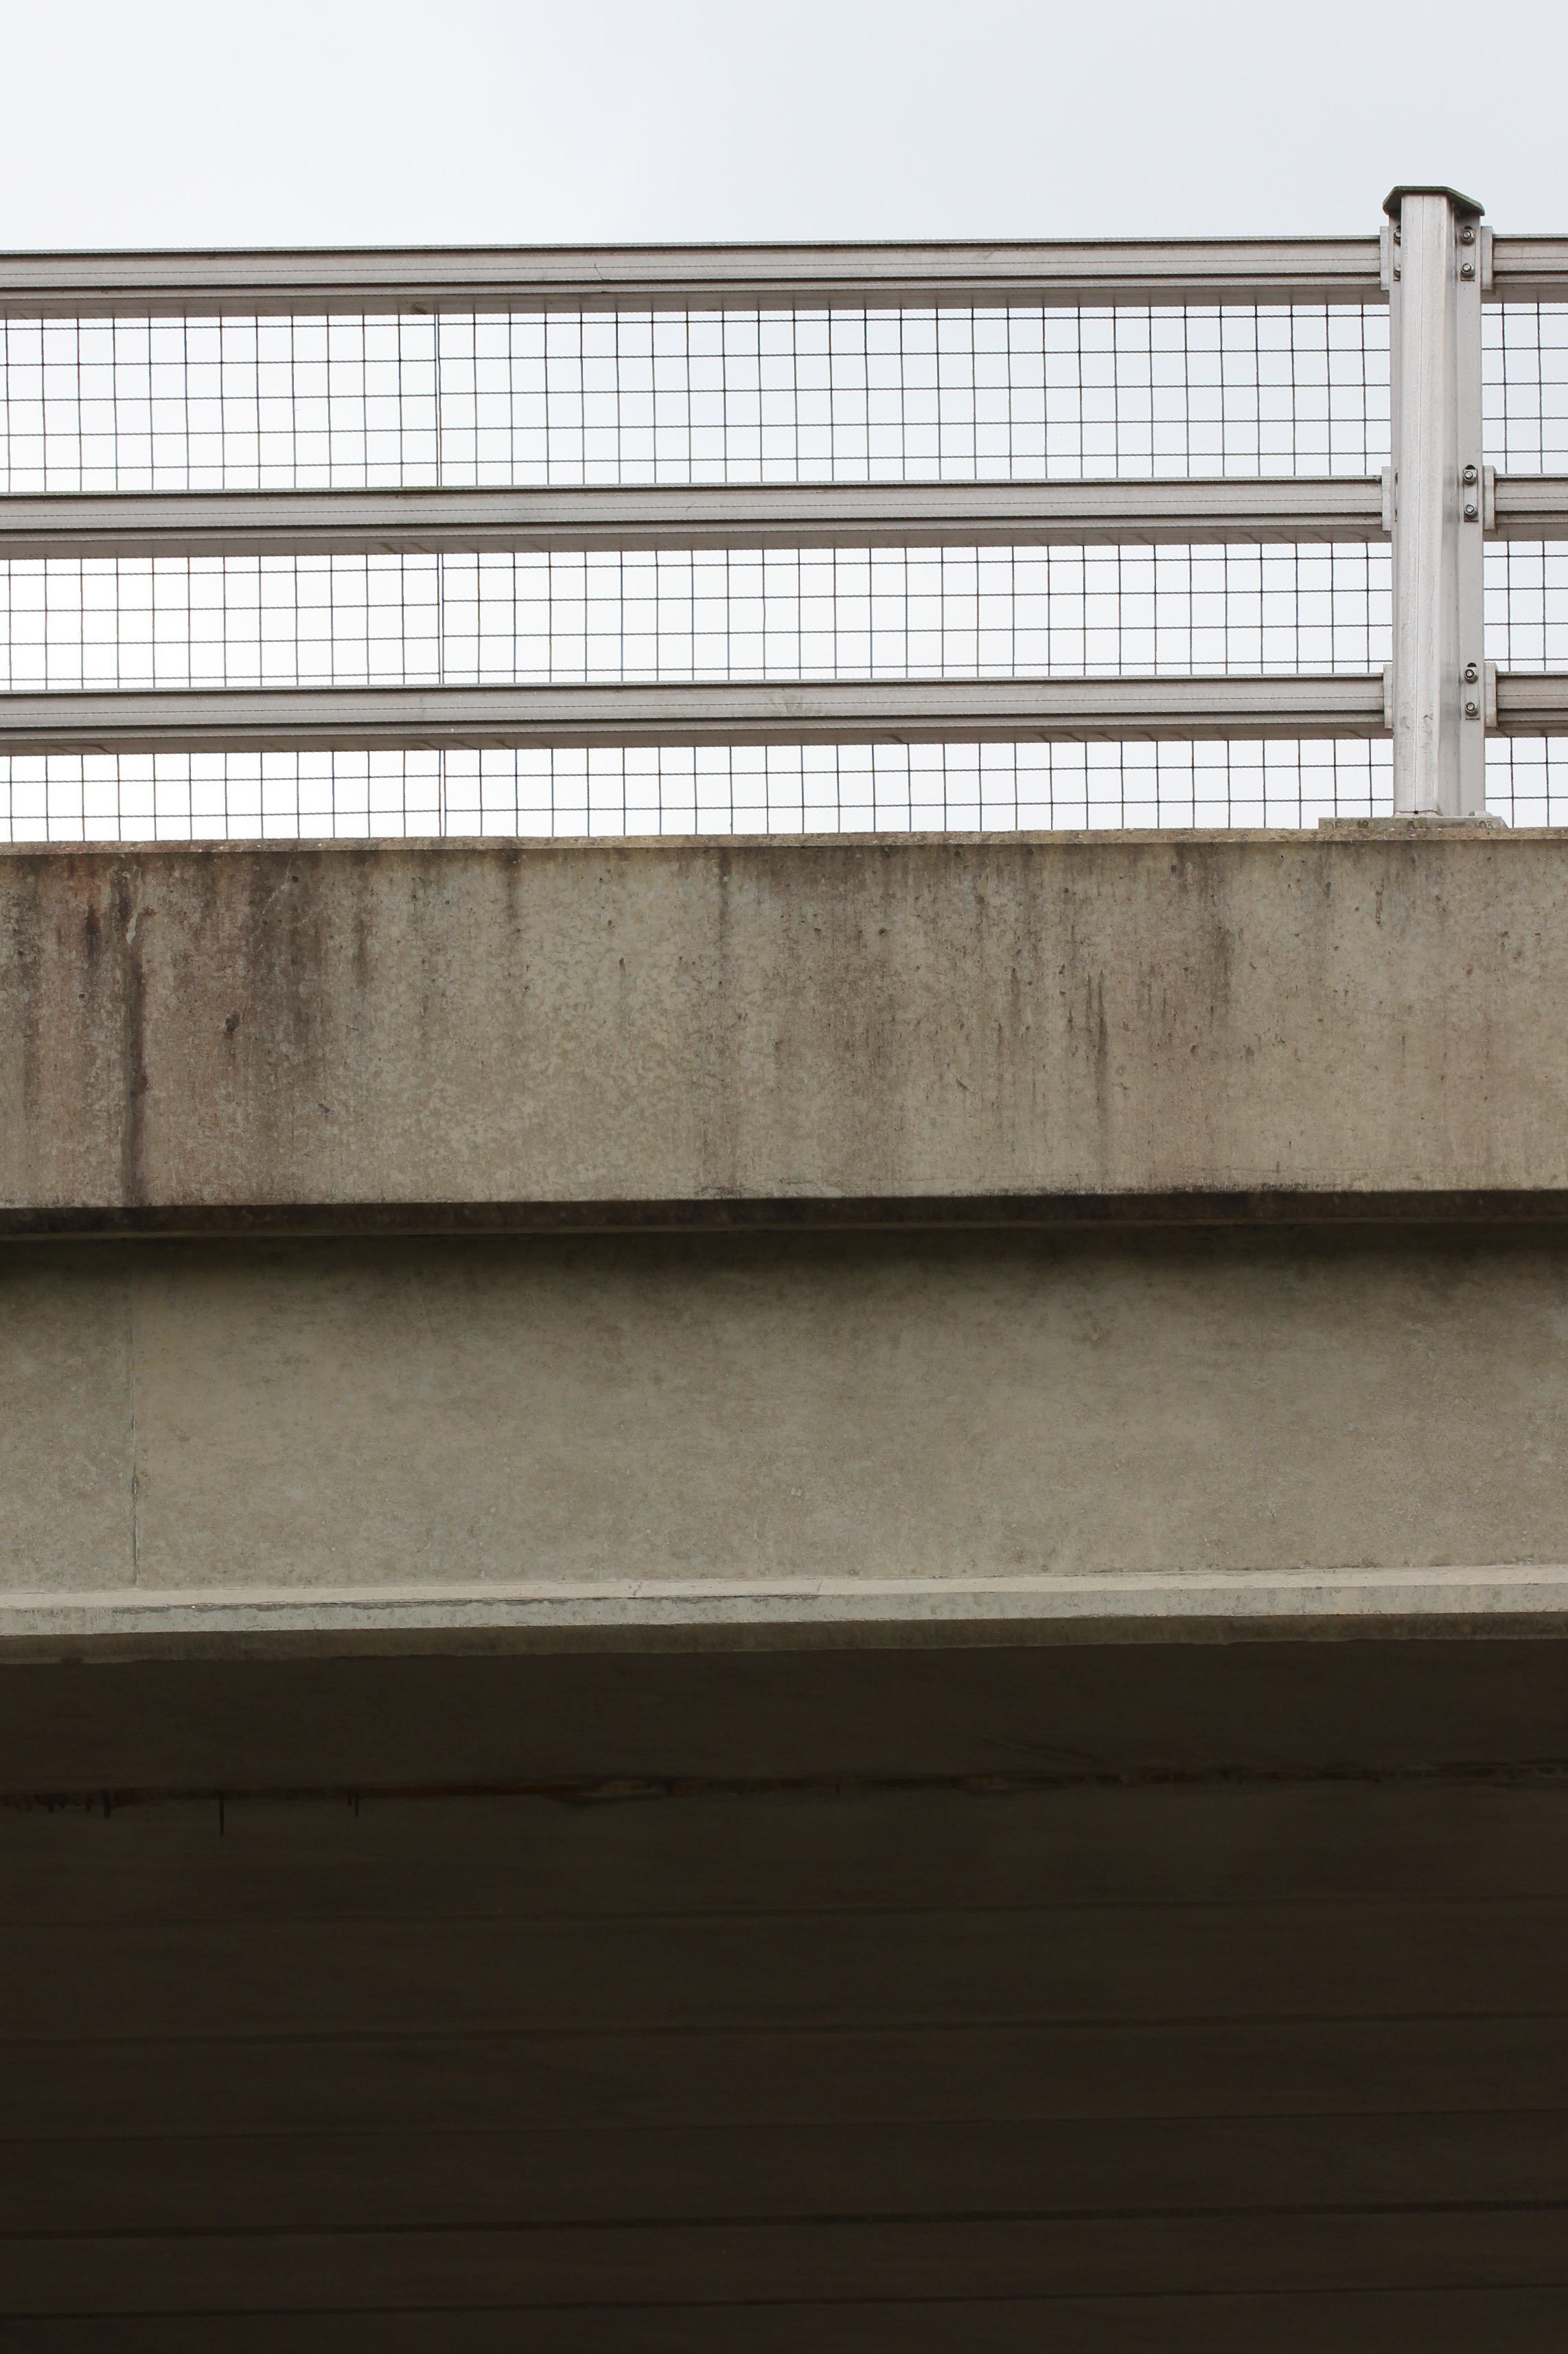Corrosion: (0, 838, 329, 1206)
